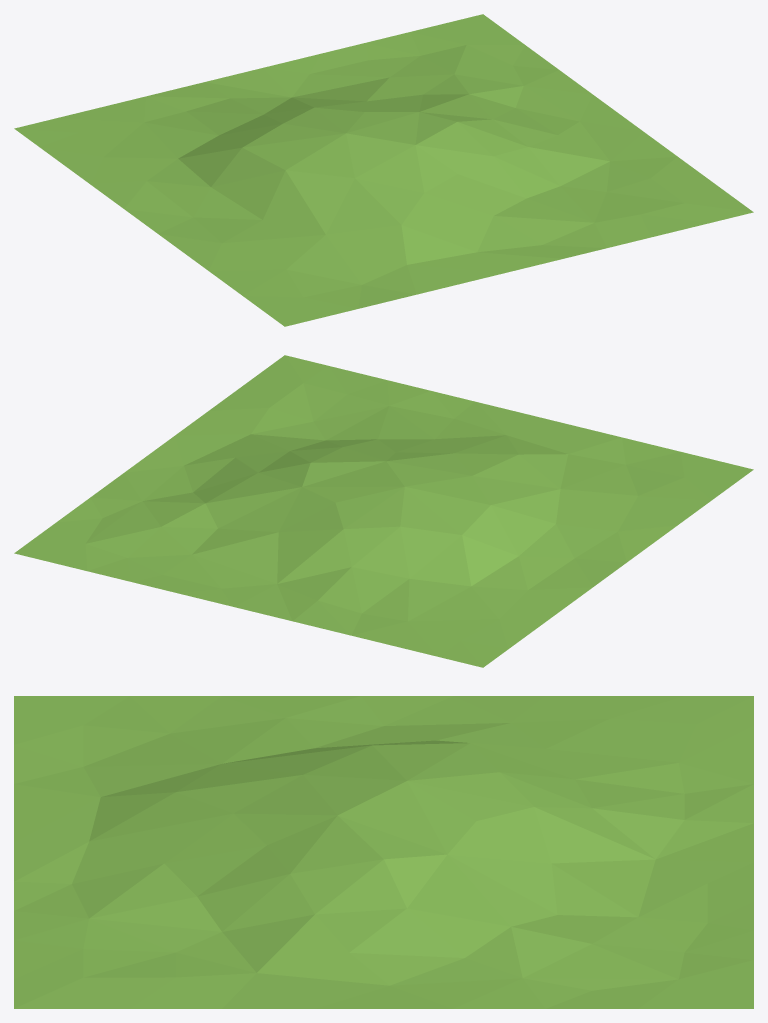
Rendered from MT_Terrain_S_a_05.fbx.
3 views of the same model, one above another, from view 1: azimuth 30°, elevation 25°; view 2: azimuth 150°, elevation 25°; view 3: azimuth 270°, elevation 25° (orthographic). The views are drawn at different scales.
Parts seen in each view (by area): view 1: MT_Terrain_S_a_05; view 2: MT_Terrain_S_a_05; view 3: MT_Terrain_S_a_05.
Part boxes in pixels (x1,y1,x2,y2): MT_Terrain_S_a_05: [14, 14, 753, 326]; MT_Terrain_S_a_05: [14, 355, 753, 667]; MT_Terrain_S_a_05: [14, 696, 753, 1008].
Size of the model in its own units: 2500 by 203 by 2500.
